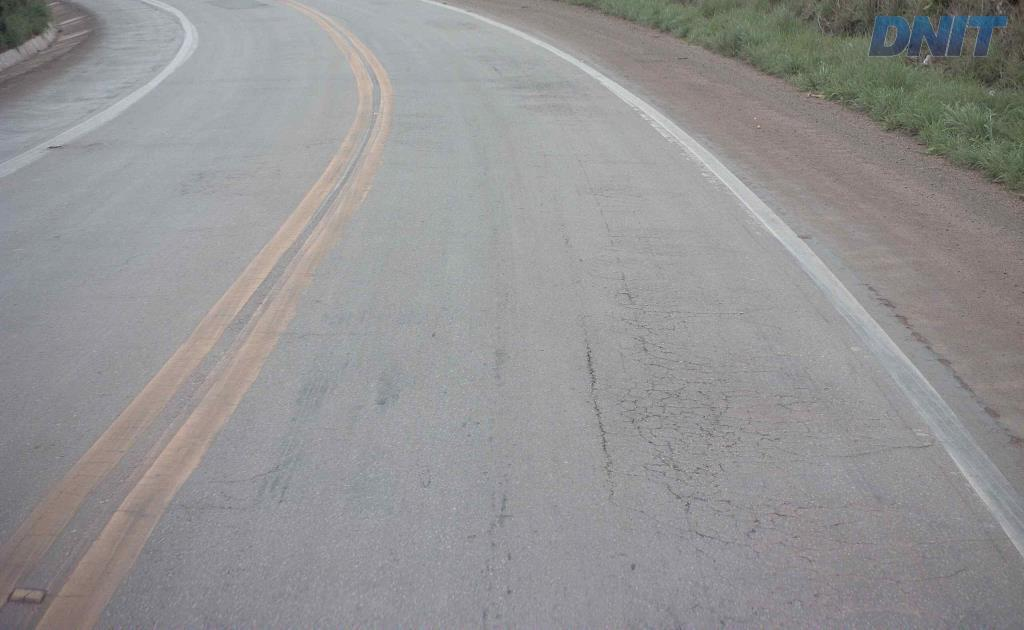crack: (585, 343, 613, 478), (642, 440, 712, 480), (695, 391, 732, 440)
